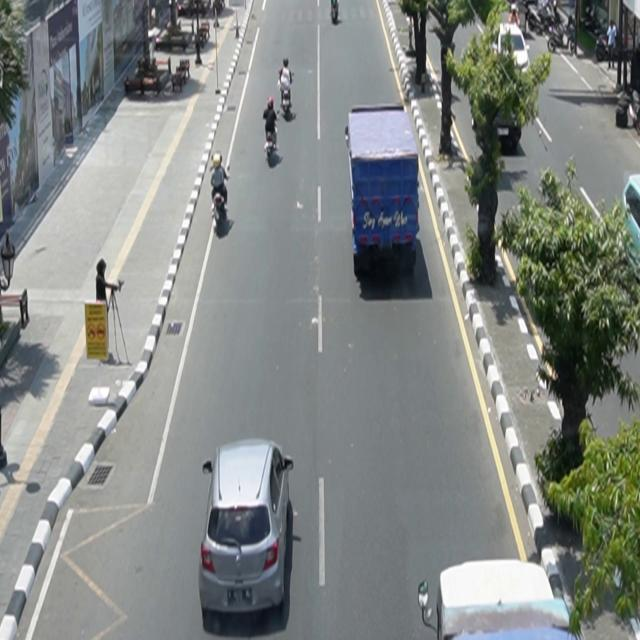bus: (345, 104, 421, 279)
car: (199, 438, 295, 622), (418, 550, 584, 640)
